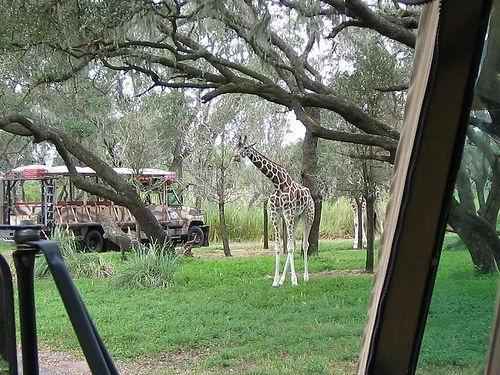bus: (5, 165, 206, 252)
truck: (3, 164, 208, 248)
